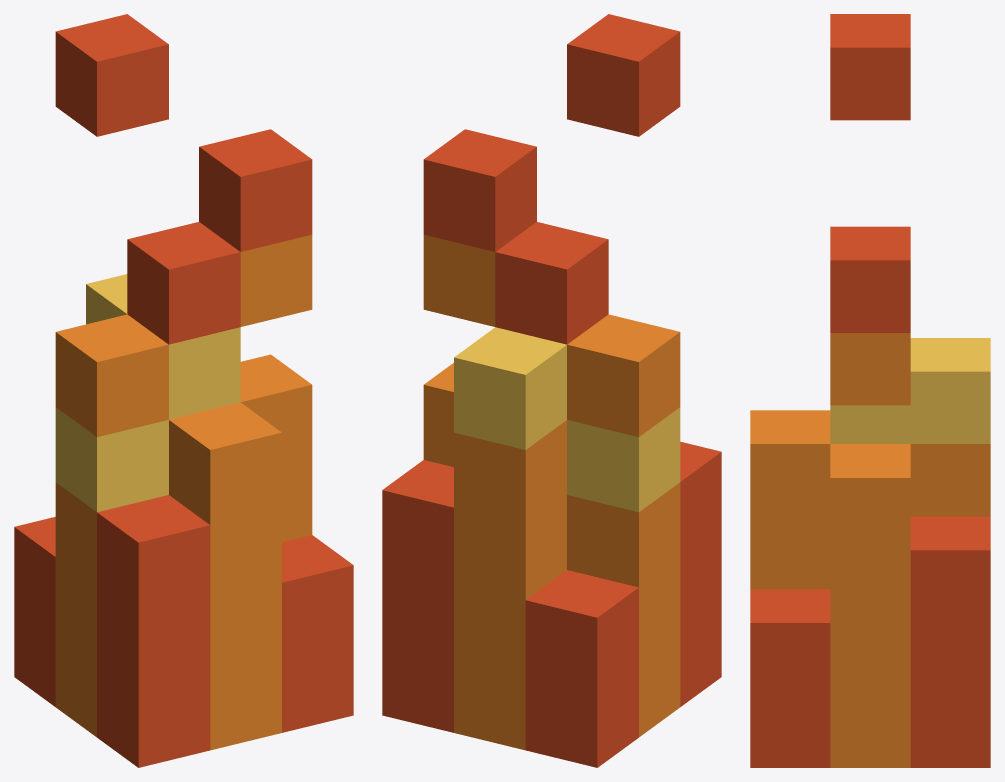
Rendered from Torch_Flame_F3.fbx.
3 renders of one model, left to right at view 1: azimuth 30°, elevation 25°; view 2: azimuth 150°, elevation 25°; view 3: azimuth 270°, elevation 25°, orthographic. The views are drawn at different scales.
Parts seen in each view (by area): view 1: Torch_Flame_F3; view 2: Torch_Flame_F3; view 3: Torch_Flame_F3.
Part boxes in pixels (box(x1,y1,x2,y2)): Torch_Flame_F3: box(14, 14, 353, 767); Torch_Flame_F3: box(382, 14, 721, 767); Torch_Flame_F3: box(750, 14, 990, 767).
Bounding box in the file's own units: 0.2 × 0.6 × 0.2.
Materials: 1 (1 with a texture image).
